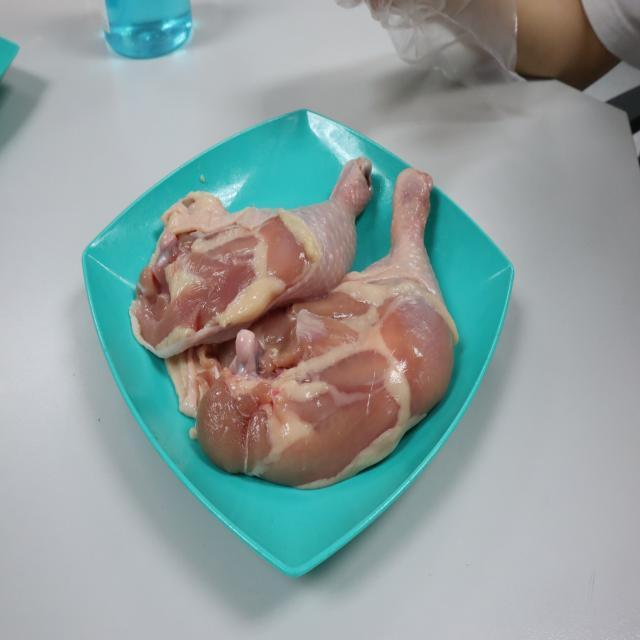quater: (196, 178, 460, 470), (95, 153, 372, 337)
